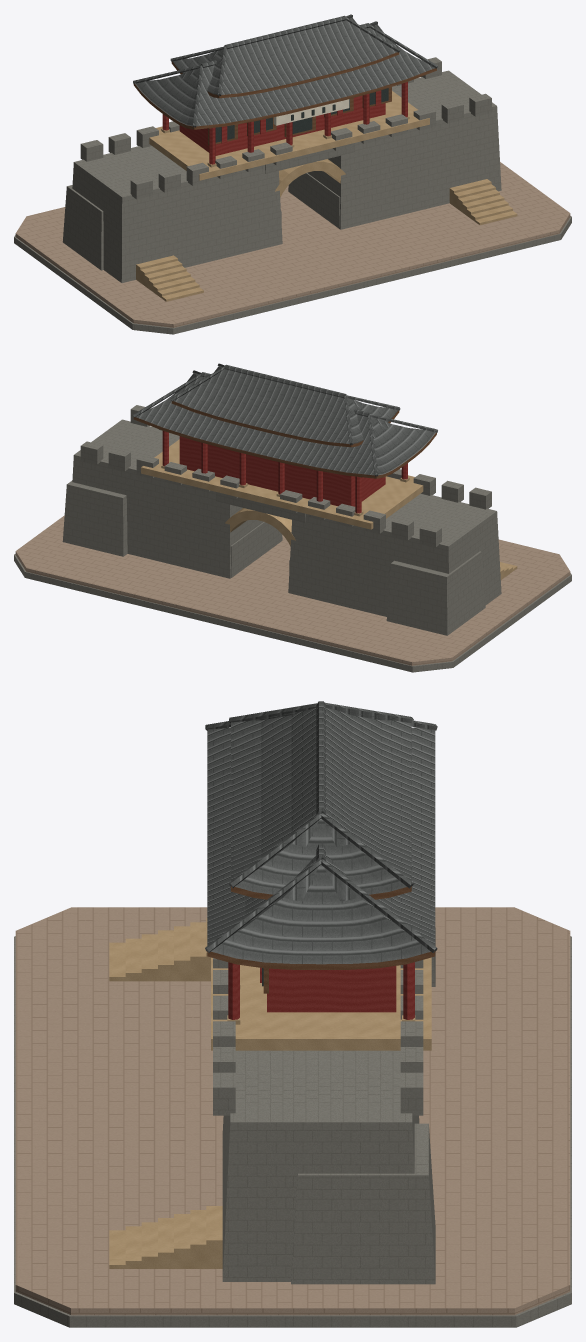
File: shanhaiguan.glb
The picture shows the model from 3 angles, top to bottom: view 1: azimuth 30°, elevation 25°; view 2: azimuth 150°, elevation 25°; view 3: azimuth 270°, elevation 25°; orthographic projection. The views are drawn at different scales.
Visible parts, largest first — view 1: 山海关; view 2: 山海关; view 3: 山海关.
Part boxes in pixels (x1,y1,x2,y2): 山海关: (14, 14, 571, 334); 山海关: (14, 363, 571, 672); 山海关: (14, 701, 571, 1327).
Size of the model in its own units: 11.8 by 5.05 by 6.9.
Materials: 9 (9 with a texture image).
